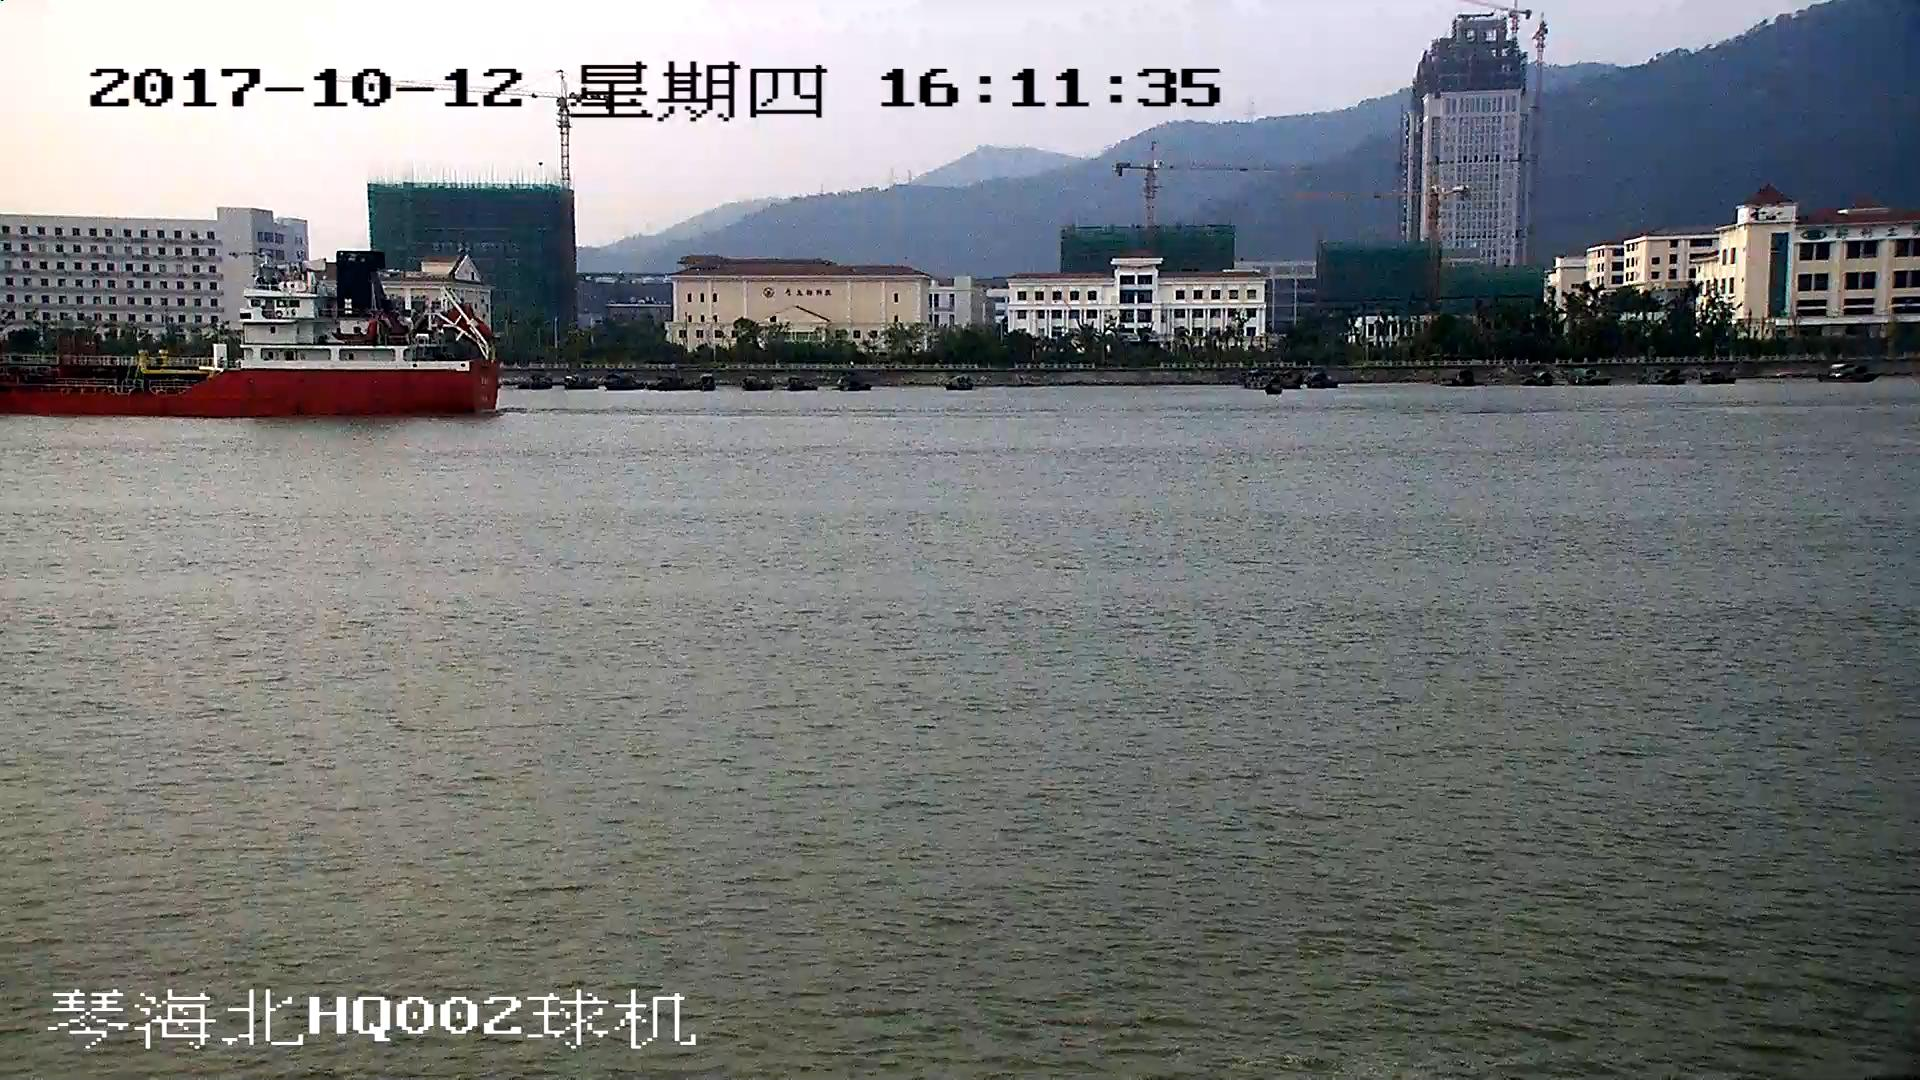general cargo ship: (1, 258, 503, 414)
